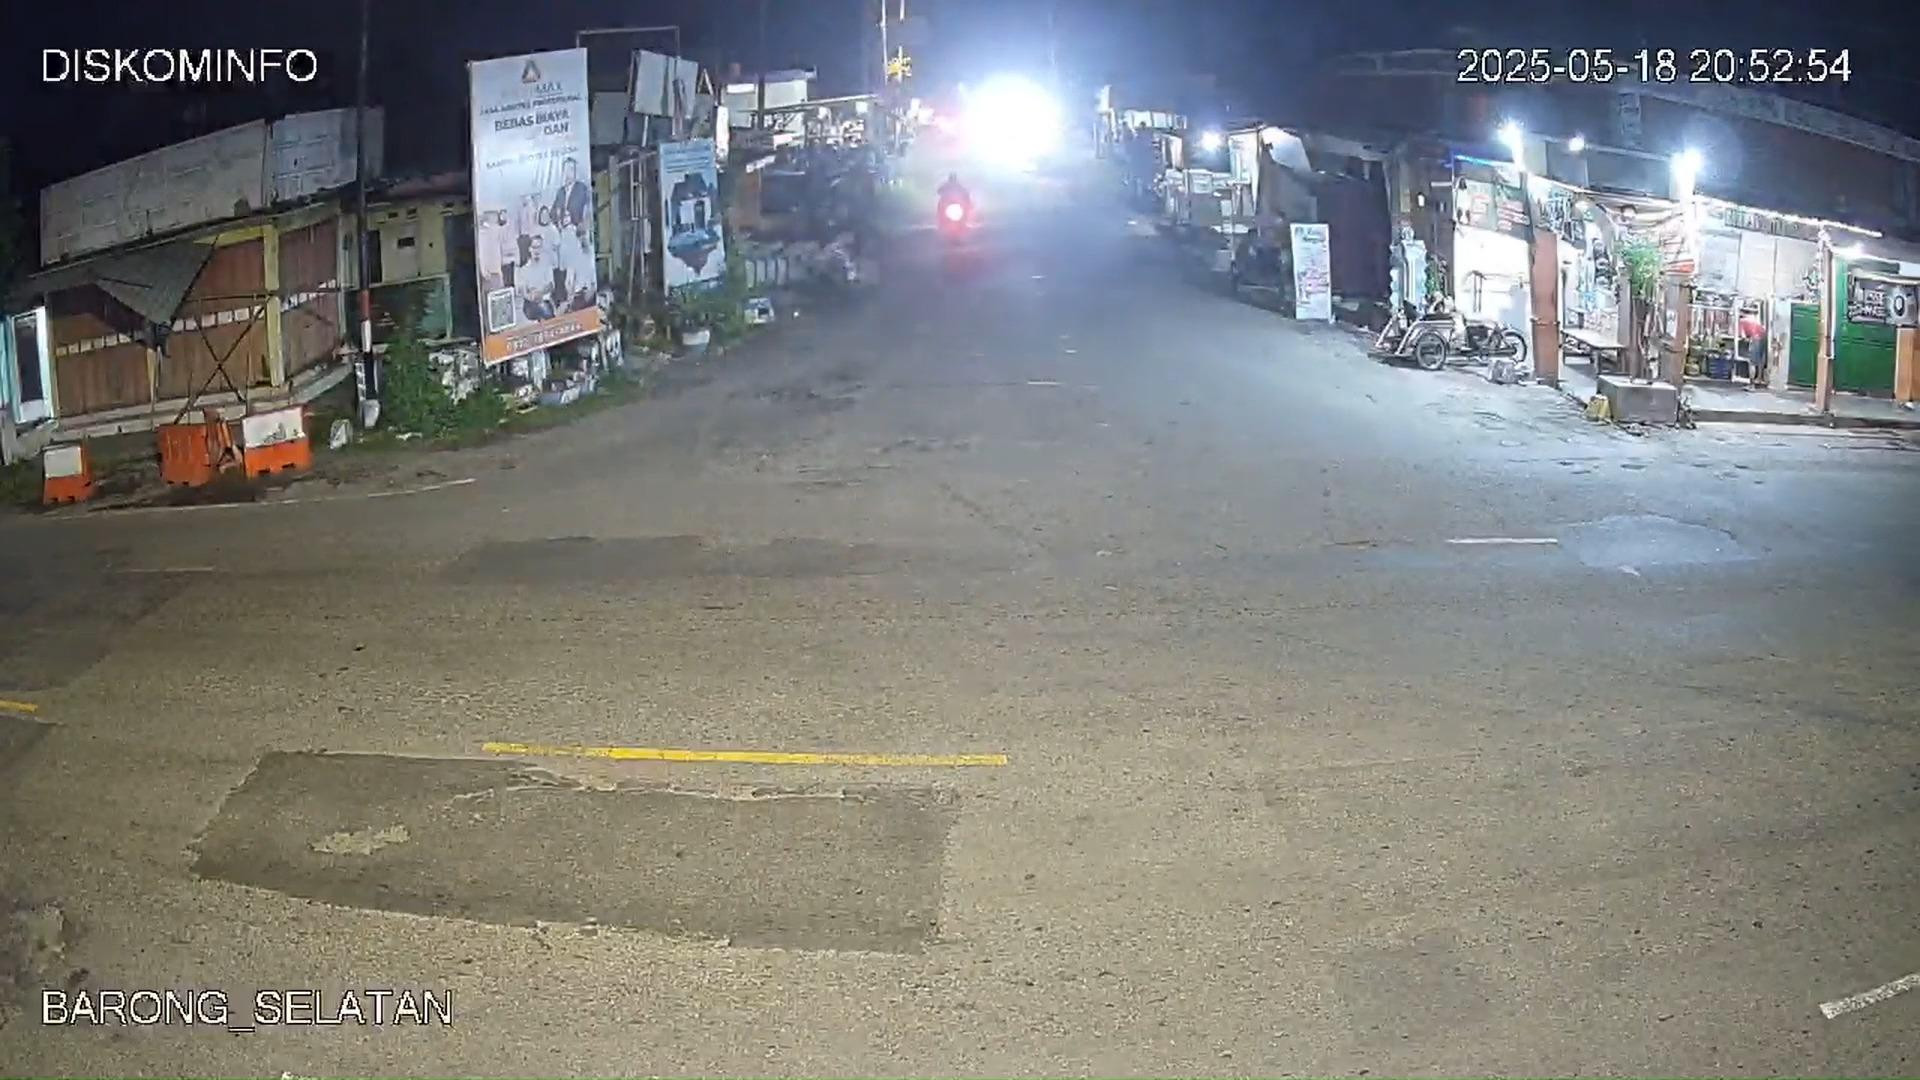Motor: (934, 173, 985, 266)
